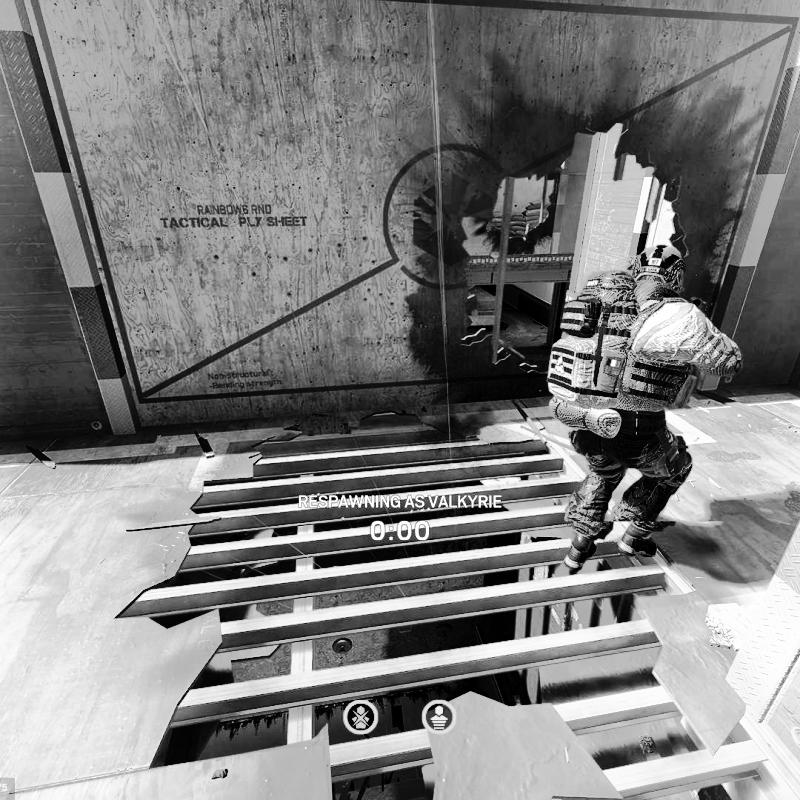Character: (546, 240, 746, 575)
Head: (630, 244, 686, 293)
